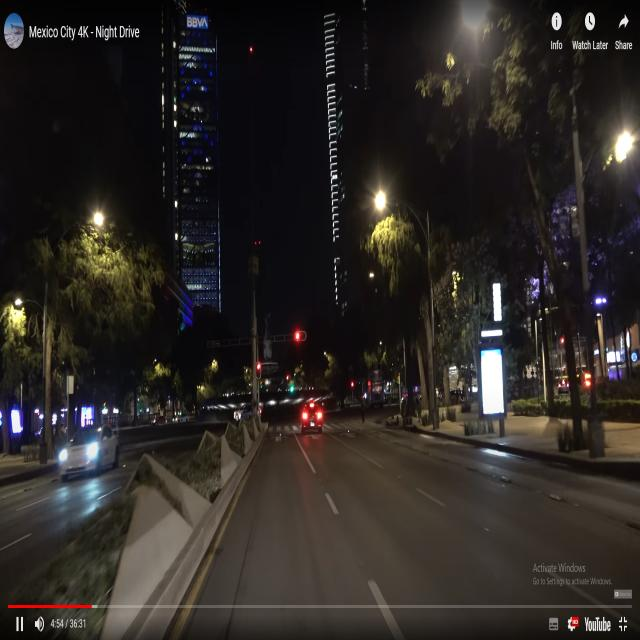headlights: (52, 439, 107, 473)
